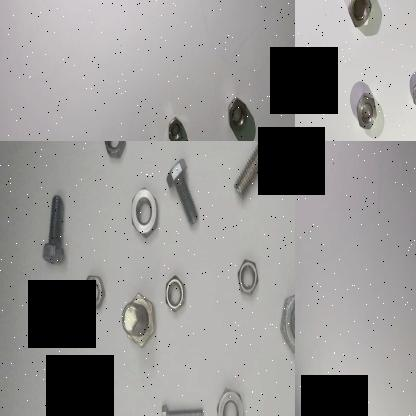Bolts: (229, 141, 284, 208), (165, 151, 205, 237), (37, 185, 73, 271), (120, 282, 158, 354), (273, 278, 295, 362), (155, 393, 207, 416)
NUTS: (126, 179, 160, 244), (158, 271, 196, 320), (80, 266, 115, 314), (236, 256, 264, 304), (355, 90, 379, 134), (212, 387, 248, 416), (226, 96, 250, 137), (345, 0, 376, 31), (99, 141, 131, 162), (165, 115, 182, 141), (412, 79, 416, 112)
